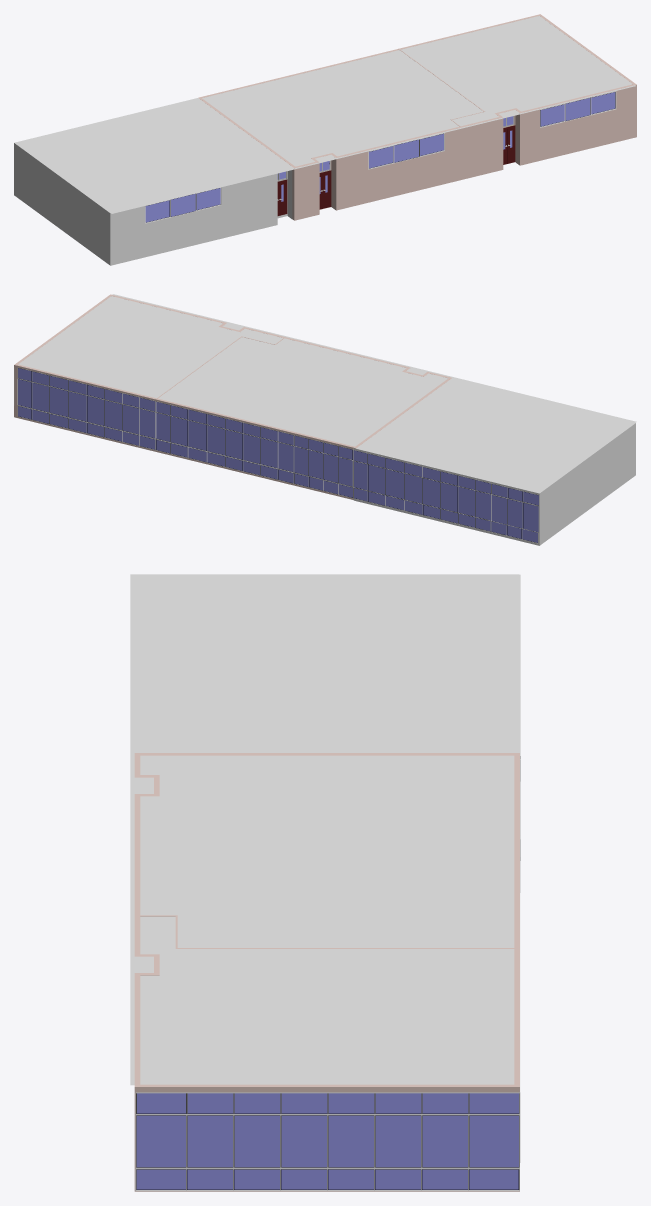
Rendered from lab aided dan ruang kelas di lantai 9.fbx.
3 renders of one model, top to bottom at view 1: azimuth 30°, elevation 25°; view 2: azimuth 150°, elevation 25°; view 3: azimuth 270°, elevation 25°, orthographic. The views are drawn at different scales.
Parts seen in each view (by area): view 1: Plane, Room, Room.002, Window.001, Window.002, Window, Baseboard.001; view 2: Plane, Room.002, Window.005, Window.011, Window.010, Room, Window.007, Window.012, Window.009, Window.006, Window.014, Window.003 (+6 smaller); view 3: Plane, Window.023, Room, Window.024, Window.022.
Part boxes in pixels (box(x1,y1,x2,y2)): Plane: box(15, 16, 635, 213); Room: box(198, 14, 636, 220); Room.002: box(14, 101, 292, 265); Window.001: box(368, 133, 444, 169); Window.002: box(540, 91, 616, 127); Window: box(145, 187, 221, 223); Baseboard.001: box(14, 193, 290, 264); Plane: box(18, 294, 636, 492); Room.002: box(353, 423, 635, 545); Window.005: box(17, 378, 155, 438); Window.011: box(353, 460, 491, 520); Window.010: box(156, 412, 293, 472); Room: box(14, 294, 451, 499); Window.007: box(155, 401, 294, 445); Window.012: box(155, 439, 293, 483); Window.009: box(294, 446, 353, 486); Window.006: box(17, 405, 155, 450); Window.014: box(353, 487, 491, 532); Window.003: box(17, 367, 155, 411); Plane: box(130, 574, 519, 1085); Window.023: box(135, 1114, 519, 1168); Room: box(134, 753, 519, 1191); Window.024: box(135, 1092, 520, 1114); Window.022: box(135, 1168, 519, 1190).
Bounding box in the file's own units: 3150 × 302 × 1013.
